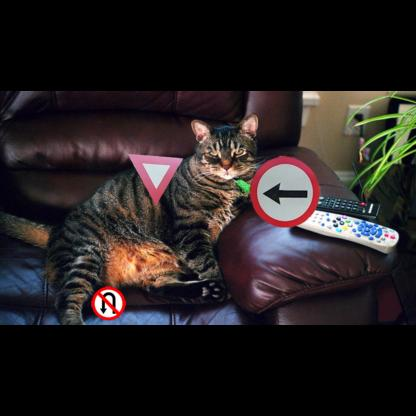R-2: (128, 154, 183, 206)
R-24a: (250, 156, 320, 227)
R-5a: (91, 286, 126, 320)
